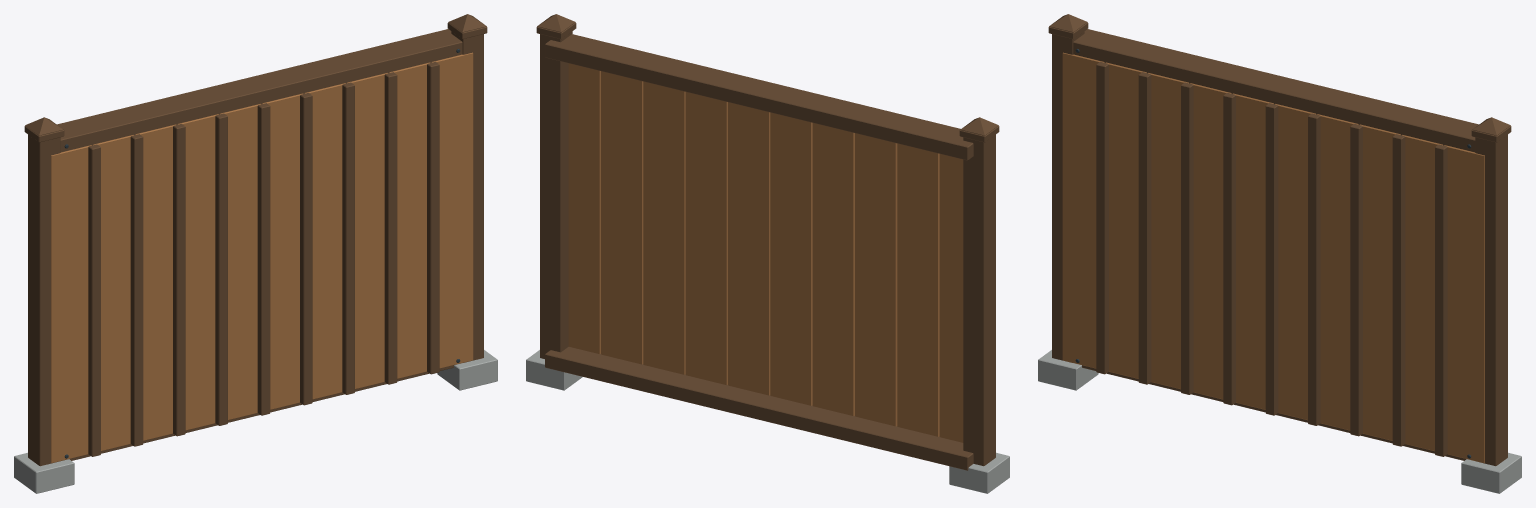
The model's file is b19_board_batten_fence.glb.
3 views of the same model, side by side, from view 1: azimuth 30°, elevation 25°; view 2: azimuth 150°, elevation 25°; view 3: azimuth 330°, elevation 25° (orthographic).
Parts seen in each view (by area): view 1: b19_board_batten_fence; view 2: b19_board_batten_fence; view 3: b19_board_batten_fence.
Boxes of the visible parts, x1,y1,x2,y2 form: b19_board_batten_fence: (14, 14, 497, 493); b19_board_batten_fence: (526, 14, 1009, 493); b19_board_batten_fence: (1038, 14, 1521, 493).
Size of the model in its own units: 2.62 by 1.97 by 0.225.
